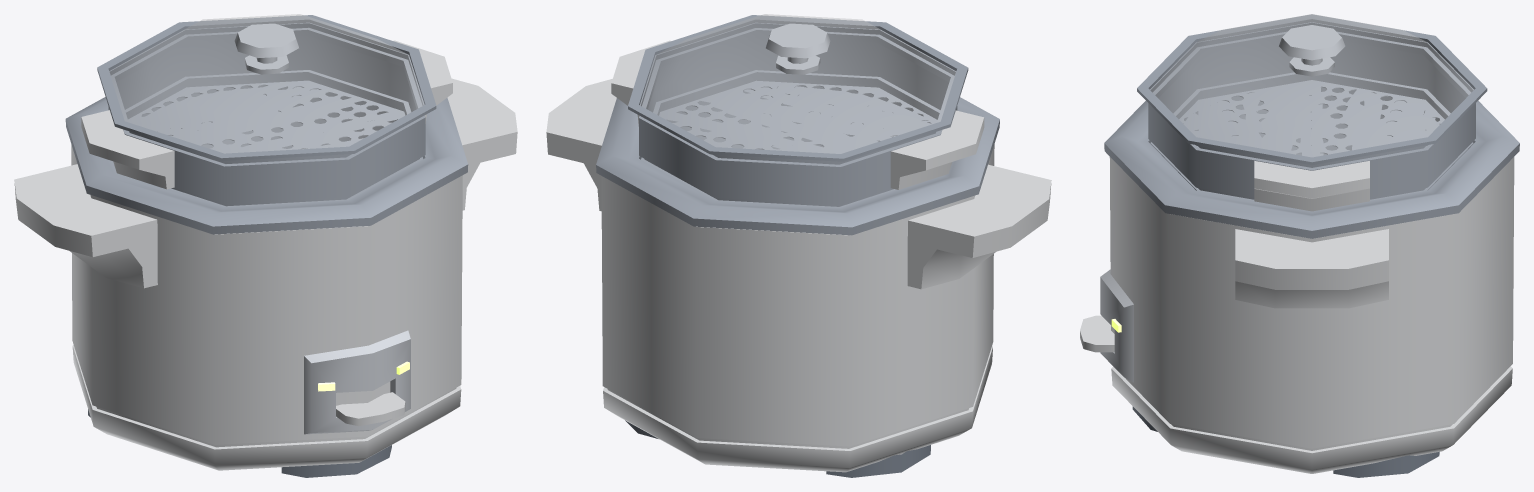
Rendered from appliance_rice_cooker.fbx.
3 renders of one model, left to right at view 1: azimuth 30°, elevation 25°; view 2: azimuth 150°, elevation 25°; view 3: azimuth 270°, elevation 25°, orthographic.
Parts seen in each view (by area): view 1: appliance rice cooker, appliance rice cooker strainer, appliance rice cooker lid, appliance rice cooker pot, appliance rice cooker switch; view 2: appliance rice cooker, appliance rice cooker strainer, appliance rice cooker lid, appliance rice cooker pot; view 3: appliance rice cooker, appliance rice cooker strainer, appliance rice cooker lid, appliance rice cooker pot, appliance rice cooker switch.
Part boxes in pixels (x1=…): appliance rice cooker: x1=14, y1=78, x2=517, y2=477; appliance rice cooker strainer: x1=81, y1=22, x2=452, y2=206; appliance rice cooker lid: x1=97, y1=14, x2=436, y2=161; appliance rice cooker pot: x1=65, y1=85, x2=468, y2=234; appliance rice cooker switch: x1=336, y1=392, x2=405, y2=426; appliance rice cooker: x1=546, y1=79, x2=1051, y2=477; appliance rice cooker strainer: x1=611, y1=22, x2=984, y2=207; appliance rice cooker lid: x1=628, y1=14, x2=968, y2=161; appliance rice cooker pot: x1=596, y1=85, x2=999, y2=235; appliance rice cooker: x1=1100, y1=157, x2=1514, y2=477; appliance rice cooker strainer: x1=1148, y1=22, x2=1475, y2=211; appliance rice cooker lid: x1=1137, y1=14, x2=1487, y2=165; appliance rice cooker pot: x1=1104, y1=87, x2=1519, y2=238; appliance rice cooker switch: x1=1080, y1=315, x2=1114, y2=352.
Size of the model in its own units: 1019 by 786 by 843.
3 materials, 2 textured.
